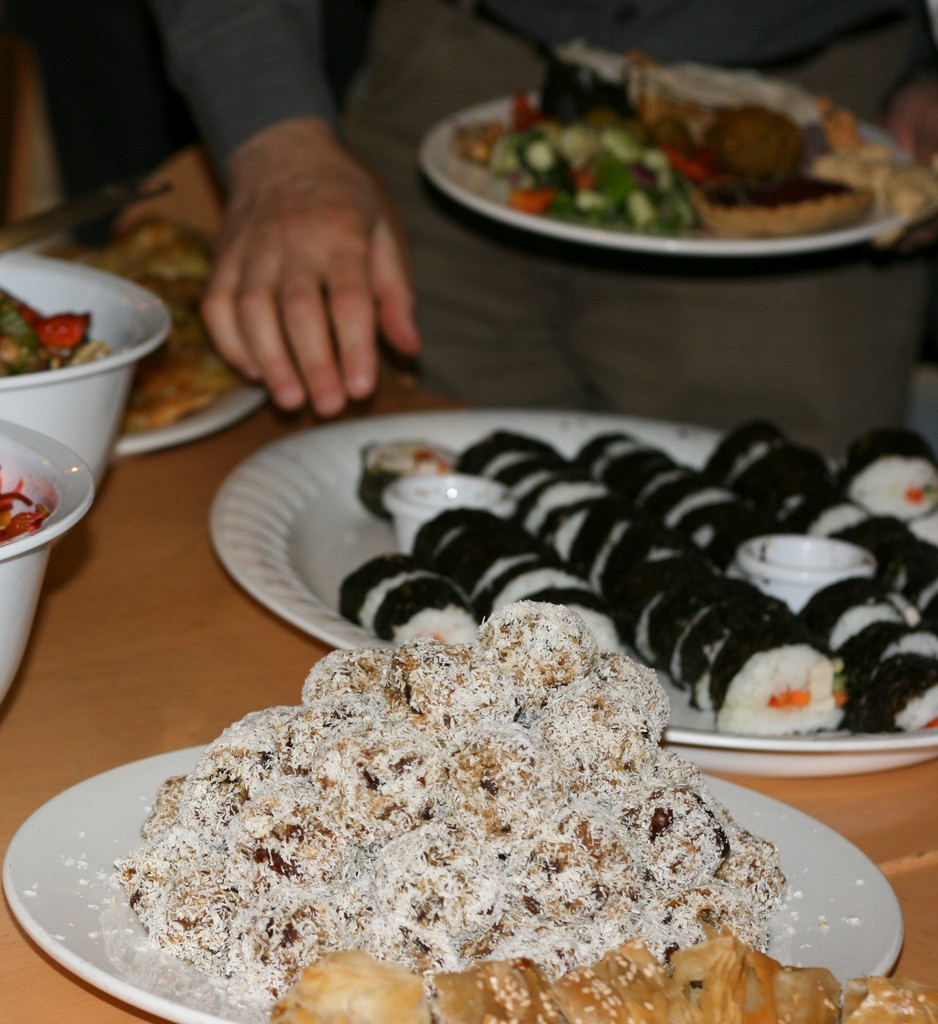sushi: (337, 421, 935, 731), (733, 638, 875, 751)
